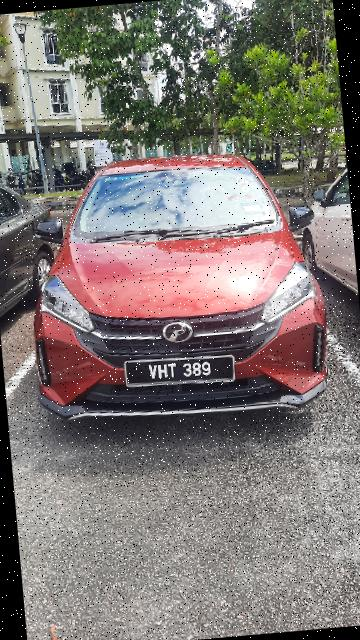License_Plate: (123, 349, 240, 394)
car: (21, 139, 341, 440)
